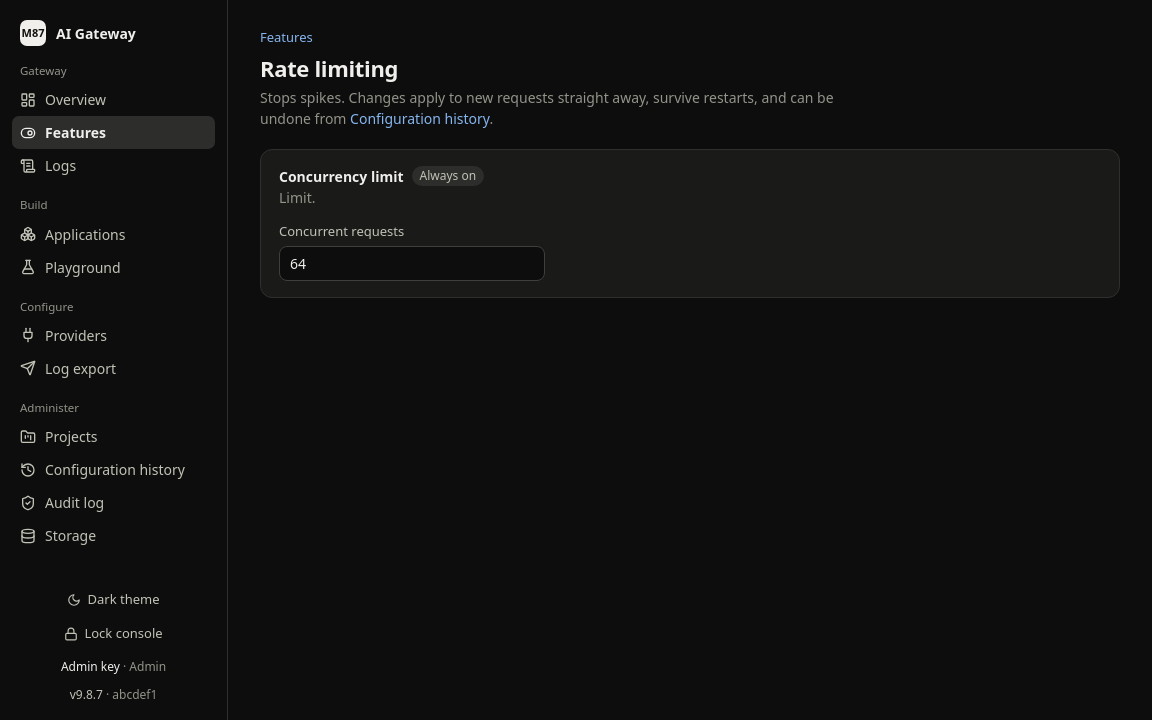
Scenario: features › keeps a validation failure on screen until dismissed
The image size is (1152, 720).
Replace the text in the number field labelled "Concurrent requests" with "65" at (412, 264), box [279,246,545,281]
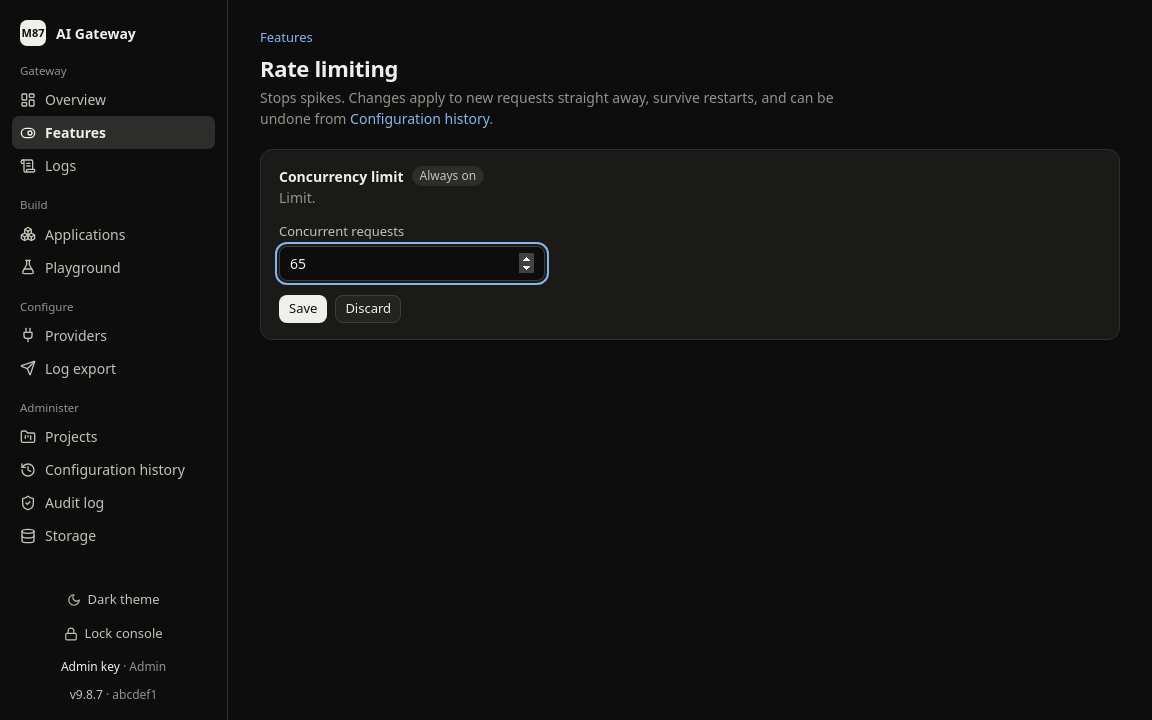
Click the button "Save" at (303, 309), box [279,295,327,323]
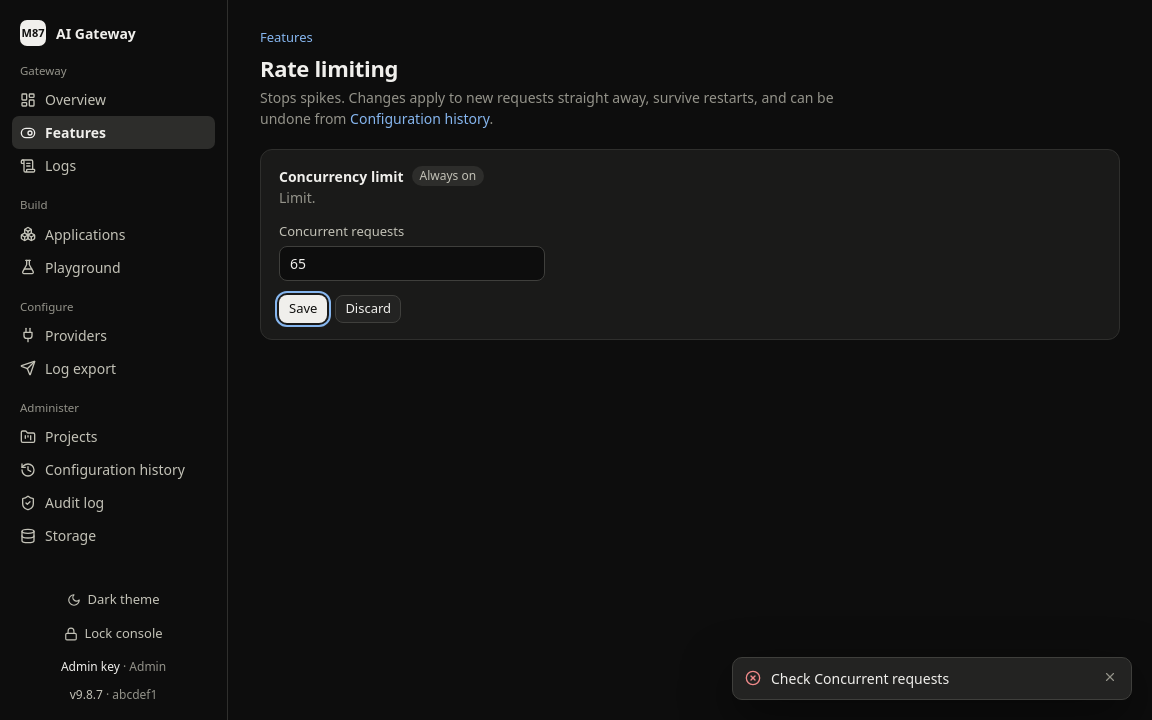
Expected: the text "Check Concurrent requests" is shown, [771,669,949,688]
Click the button named "Dismiss" at (1110, 677), box [1101,668,1119,686]
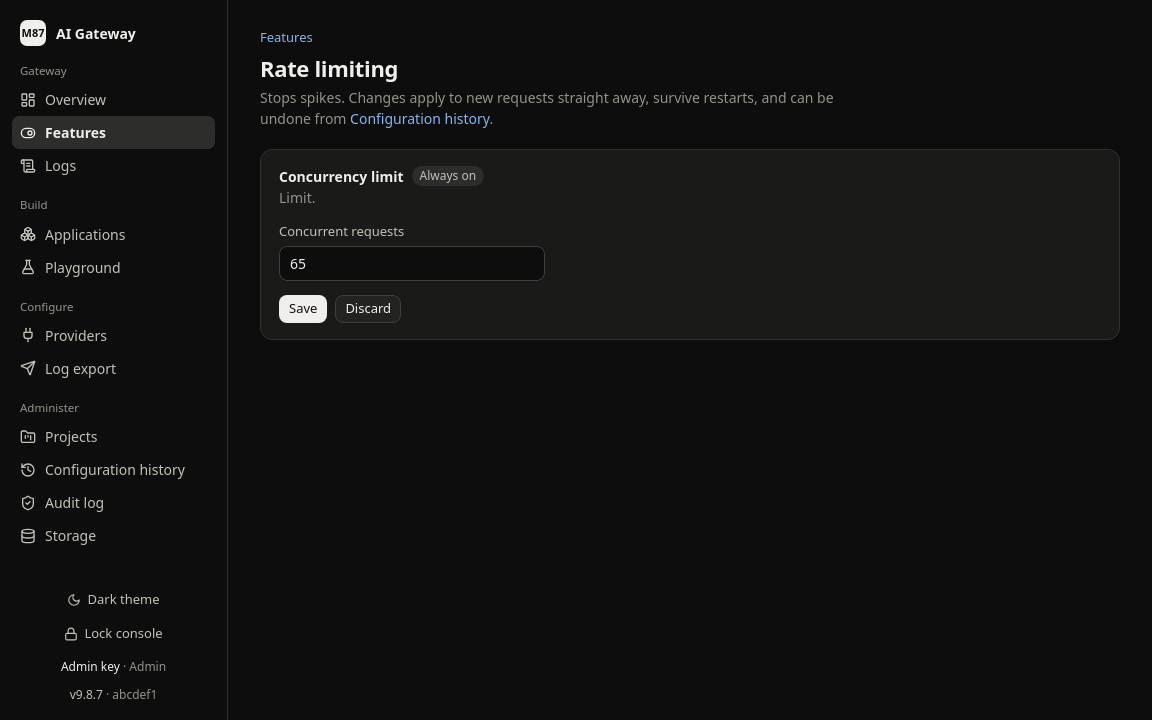
Expected: the text "Check Concurrent requests" is gone
